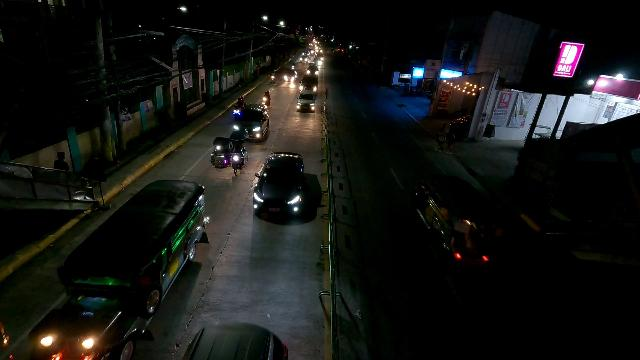car: (252, 151, 303, 219), (231, 105, 269, 139), (295, 91, 315, 114), (299, 74, 318, 92), (282, 68, 298, 83), (306, 64, 319, 76), (300, 56, 308, 63)
jeepney: (30, 178, 209, 360)
motorcycle: (233, 96, 246, 116), (262, 90, 271, 107), (270, 70, 277, 85)
